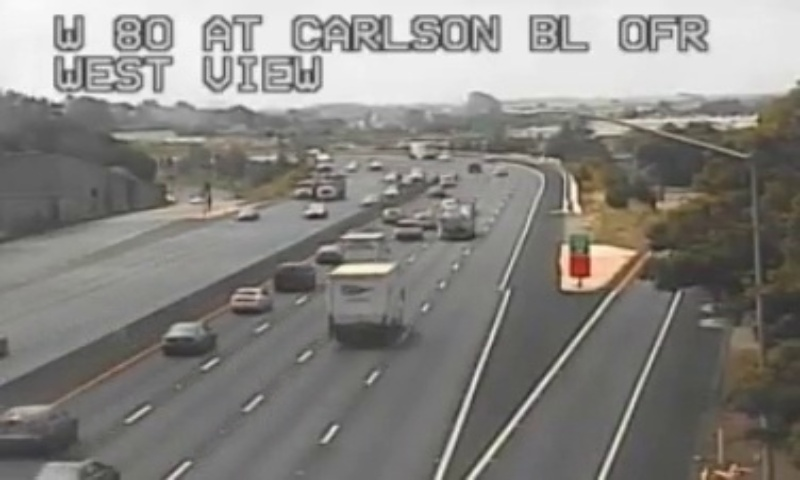car: (2, 404, 76, 454), (161, 321, 216, 355), (272, 263, 314, 292), (229, 287, 270, 314), (317, 245, 342, 263)
small-truck: (325, 261, 402, 335), (340, 232, 385, 259)
